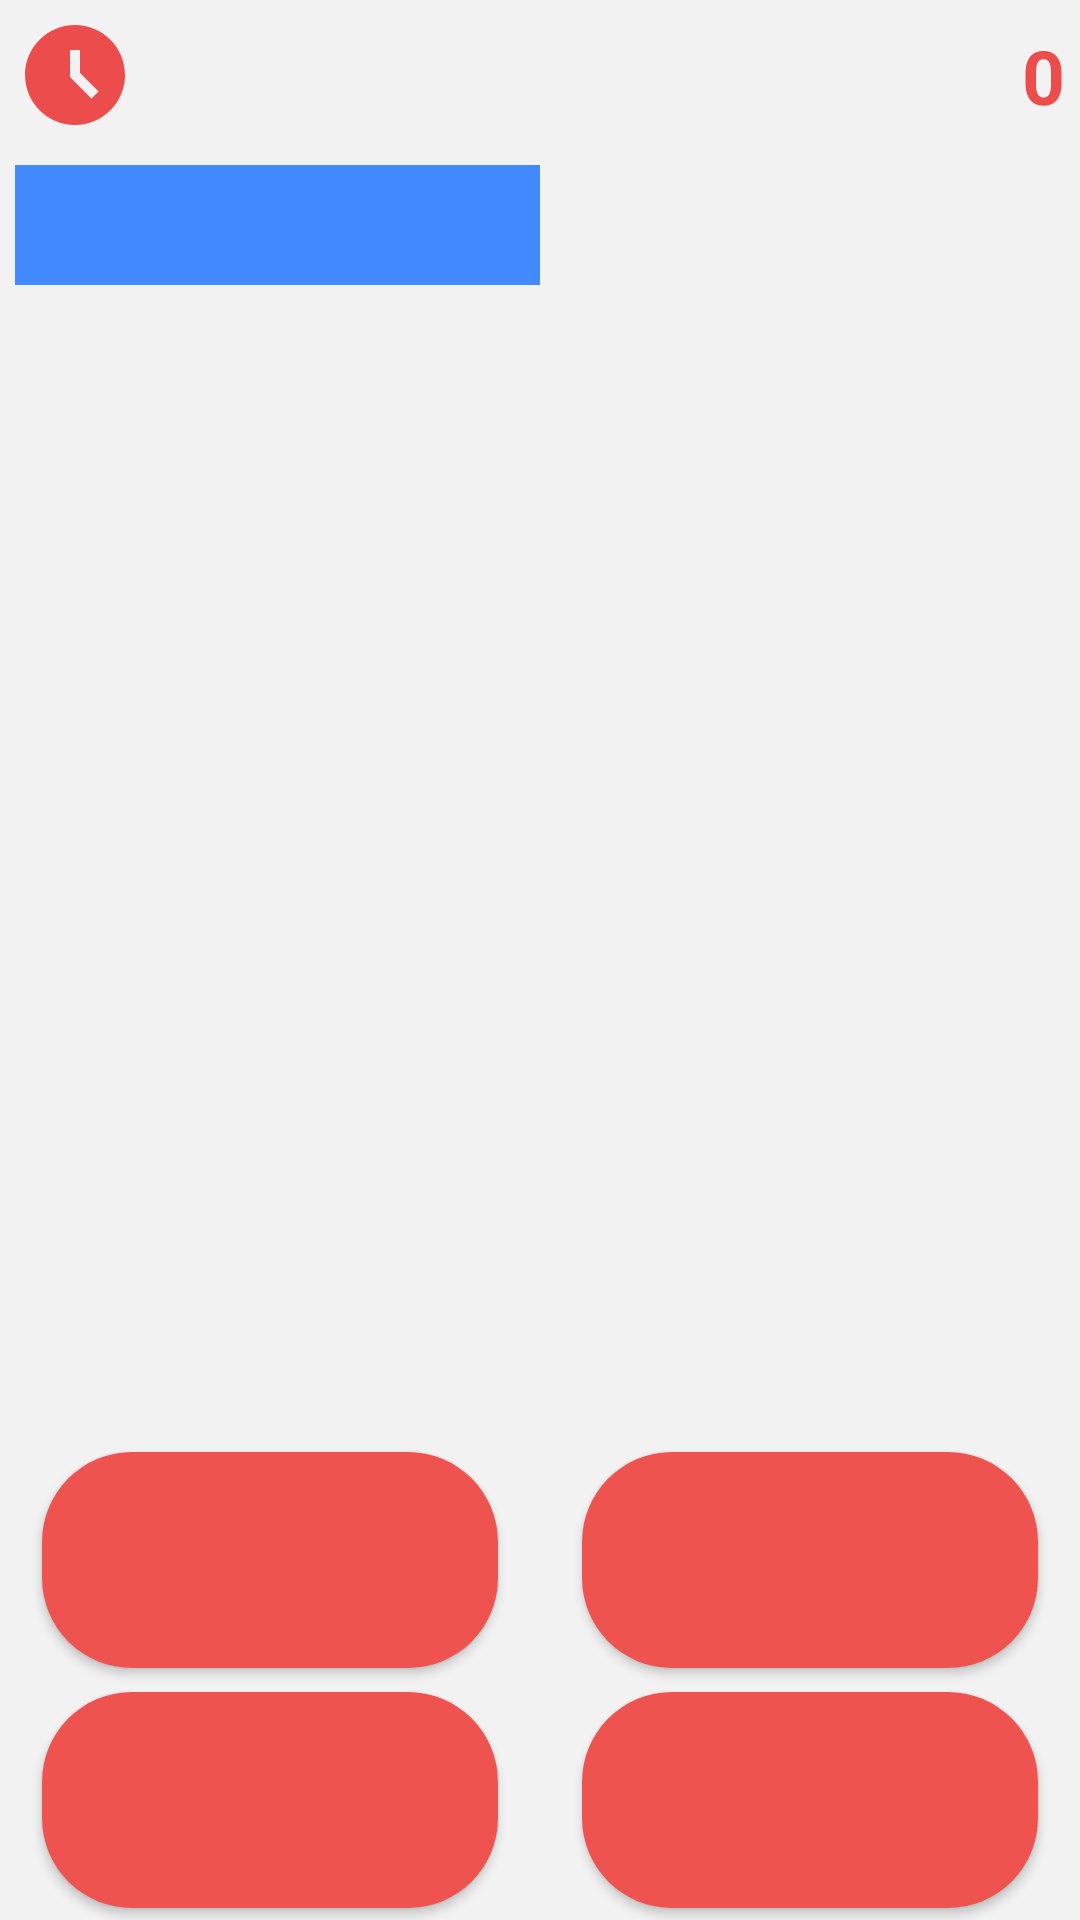

Point at icon controls on the screen. Image size 1080*1920, points as (x=x, y=y).
time: (x=75, y=75)
